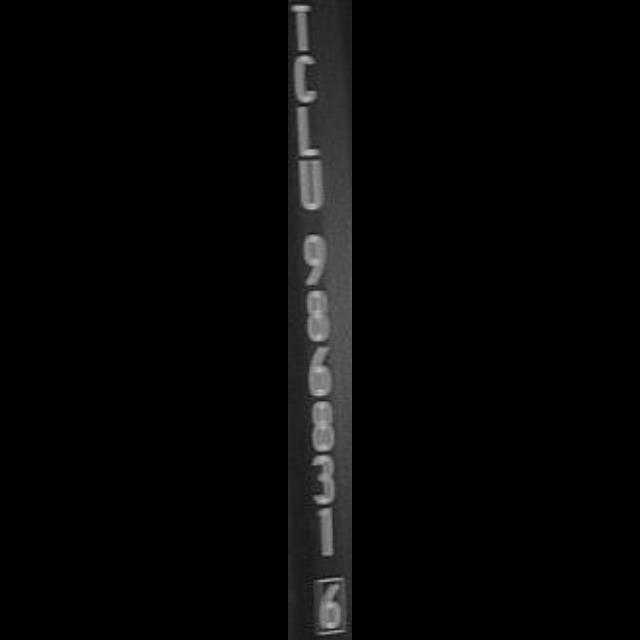1: (304, 502, 348, 560)
3: (297, 453, 349, 507)
6: (308, 576, 352, 638), (297, 344, 345, 398)
8: (299, 398, 346, 457), (294, 285, 338, 347)
9: (288, 228, 338, 288)
c: (288, 49, 326, 105)
l: (288, 104, 334, 162)
t: (288, 0, 326, 56)
u: (288, 157, 332, 213)
